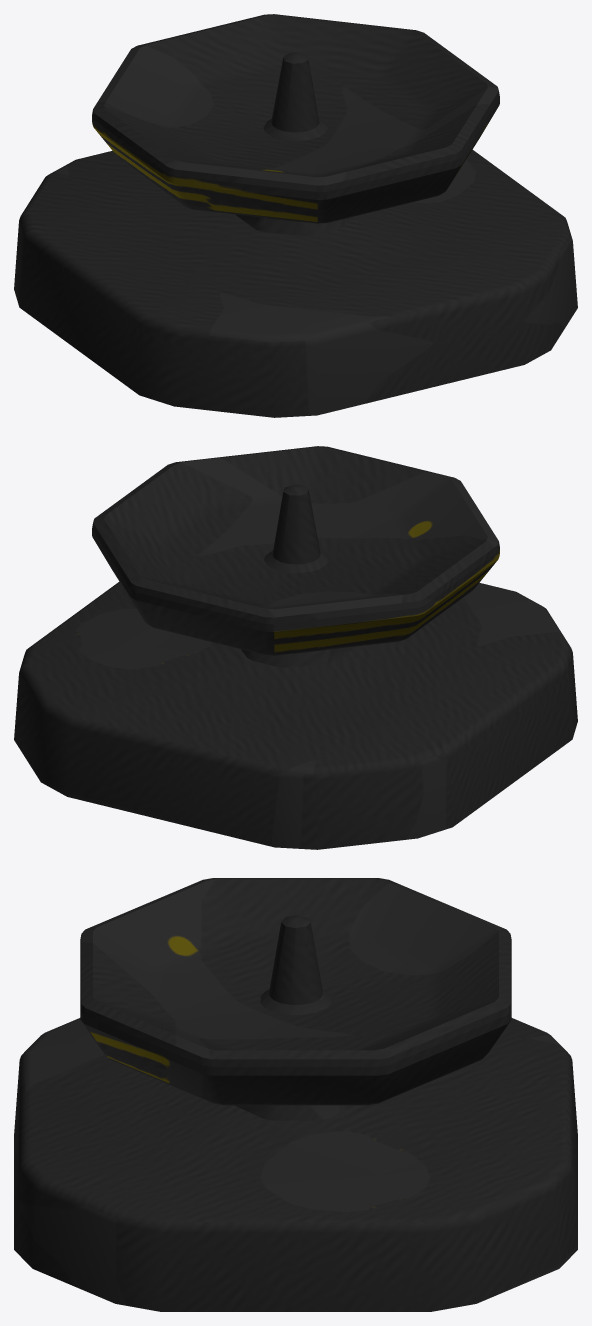
The model's file is Laser_gen.fbx.
The picture shows the model from 3 angles, top to bottom: view 1: azimuth 30°, elevation 25°; view 2: azimuth 150°, elevation 25°; view 3: azimuth 270°, elevation 25°; orthographic projection. The views are drawn at different scales.
Parts seen in each view (by area): view 1: Laser_gen; view 2: Laser_gen; view 3: Laser_gen.
Part boxes in pixels (box(x1,y1,x2,y2)): Laser_gen: box(14, 14, 577, 417); Laser_gen: box(14, 446, 577, 849); Laser_gen: box(14, 878, 577, 1311).
Size of the model in its own units: 100 by 53.76 by 100.
